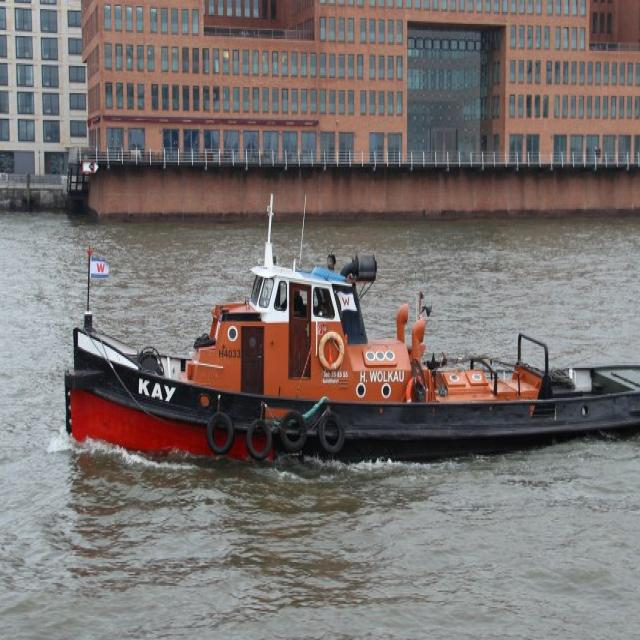tugboat: (60, 201, 640, 485)
